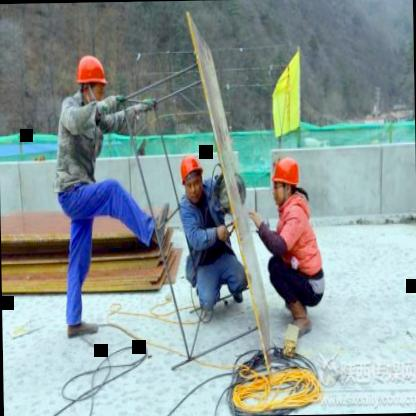helmet: (268, 150, 304, 214), (72, 51, 109, 106), (180, 154, 204, 200)
